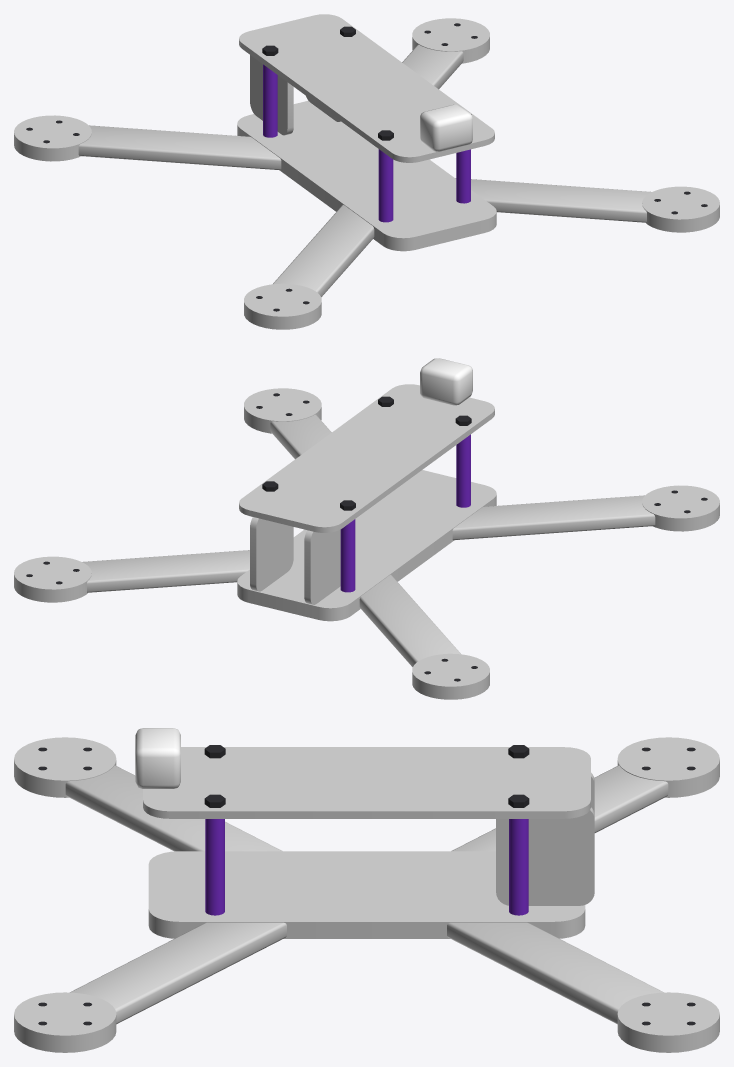
File: frame_falke5.glb
3 renders of one model, top to bottom at view 1: azimuth 30°, elevation 25°; view 2: azimuth 150°, elevation 25°; view 3: azimuth 270°, elevation 25°, orthographic. The views are drawn at different scales.
Visible parts, largest first — view 1: frame_falke5_T_carbon, frame_falke5_M_Standoff_falke5, frame_falke5_T_tpu, frame_falke5_M_Bolt; view 2: frame_falke5_T_carbon, frame_falke5_M_Standoff_falke5, frame_falke5_T_tpu, frame_falke5_M_Bolt; view 3: frame_falke5_T_carbon, frame_falke5_M_Standoff_falke5, frame_falke5_T_tpu, frame_falke5_M_Bolt.
Boxes of the visible parts, bbox=[...] form: frame_falke5_T_carbon: bbox=[14, 14, 719, 329]; frame_falke5_M_Standoff_falke5: bbox=[263, 64, 470, 222]; frame_falke5_T_tpu: bbox=[420, 104, 472, 151]; frame_falke5_M_Bolt: bbox=[26, 23, 707, 311]; frame_falke5_T_carbon: bbox=[14, 384, 719, 699]; frame_falke5_M_Standoff_falke5: bbox=[340, 434, 470, 592]; frame_falke5_T_tpu: bbox=[420, 358, 472, 405]; frame_falke5_M_Bolt: bbox=[26, 393, 707, 681]; frame_falke5_T_carbon: bbox=[14, 737, 719, 1052]; frame_falke5_M_Standoff_falke5: bbox=[205, 819, 528, 915]; frame_falke5_T_tpu: bbox=[135, 728, 180, 788]; frame_falke5_M_Bolt: bbox=[38, 745, 695, 1025].
Size of the model in its own units: 0.186 by 0.0498 by 0.186.
